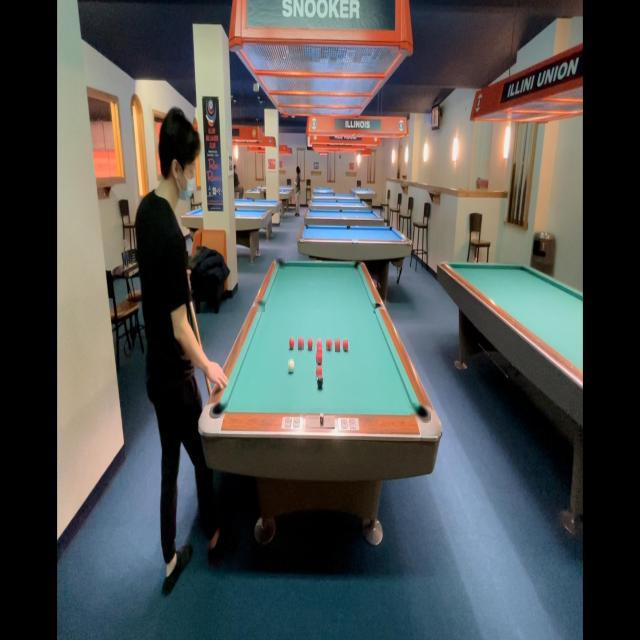Ball: (316, 375, 324, 388), (288, 336, 294, 350), (298, 336, 304, 350), (288, 359, 294, 372), (326, 338, 332, 351), (316, 366, 322, 378), (335, 338, 340, 352), (316, 353, 322, 363), (317, 338, 322, 350), (343, 340, 348, 350), (317, 347, 322, 357), (308, 338, 312, 350)
Pocket: (410, 404, 431, 424), (210, 401, 228, 418), (370, 300, 384, 314), (255, 298, 265, 312), (352, 260, 362, 270), (276, 258, 285, 269)
